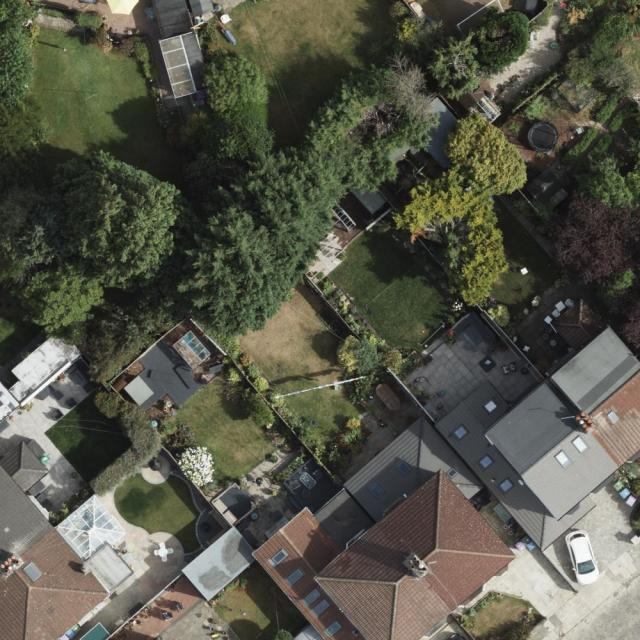roof: (181, 326, 640, 640), (0, 440, 137, 640)
skylight: (52, 495, 127, 562), (570, 433, 590, 455), (285, 567, 305, 587), (368, 480, 388, 500), (323, 619, 343, 638), (553, 449, 572, 469), (269, 548, 289, 566), (311, 598, 331, 616), (395, 458, 413, 476), (452, 423, 470, 441), (303, 588, 322, 605), (477, 453, 495, 470), (498, 477, 515, 494), (483, 397, 499, 414), (606, 410, 621, 425), (447, 466, 459, 478)
solar: (22, 560, 43, 584)
